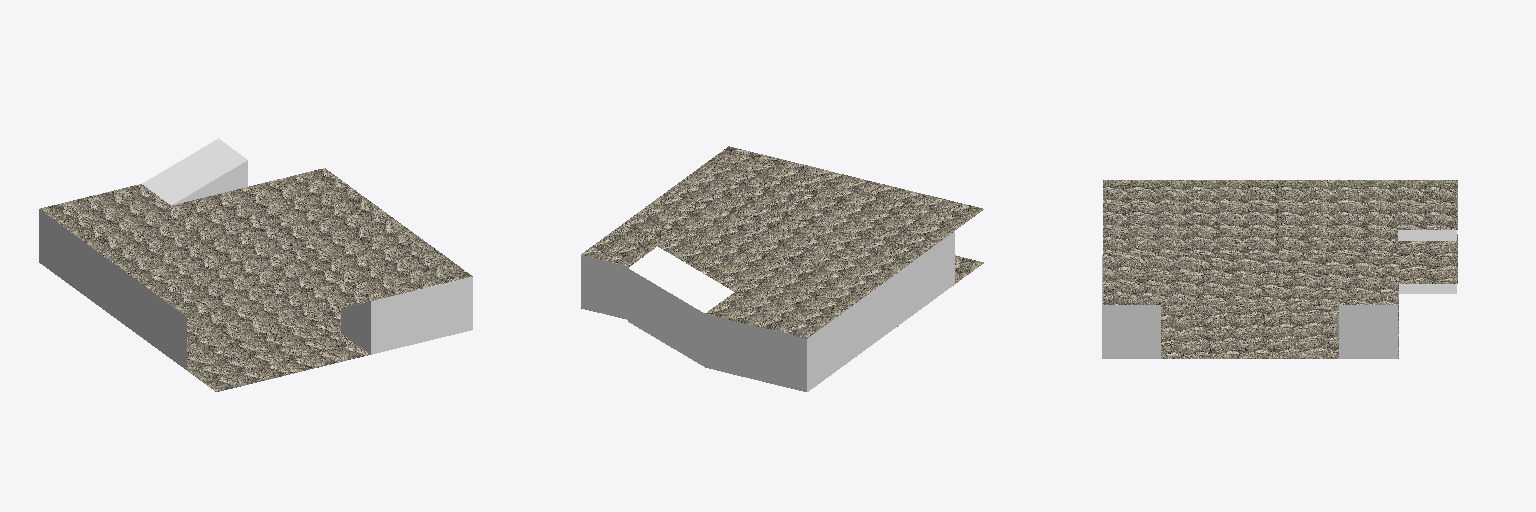
The picture shows the model from 3 angles: view 1: azimuth 30°, elevation 25°; view 2: azimuth 150°, elevation 25°; view 3: azimuth 270°, elevation 25°; orthographic projection.
Parts seen in each view (by area): view 1: EntryRoom; view 2: EntryRoom; view 3: EntryRoom.
Part boxes in pixels (bbox=[...]): EntryRoom: bbox=[39, 138, 472, 391]; EntryRoom: bbox=[581, 146, 983, 391]; EntryRoom: bbox=[1102, 180, 1457, 358].
Bounding box in the file's own units: 20 × 6 × 24.03.
Materials: 2 (1 with a texture image).